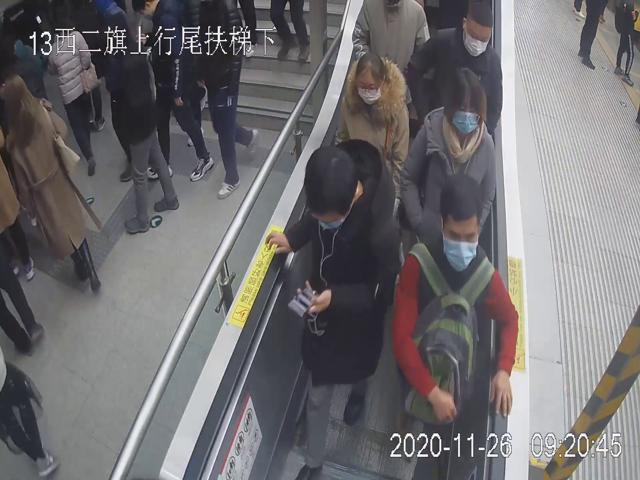person: (264, 139, 401, 480), (390, 172, 519, 480), (401, 64, 495, 252), (330, 50, 410, 217), (408, 0, 503, 138)
